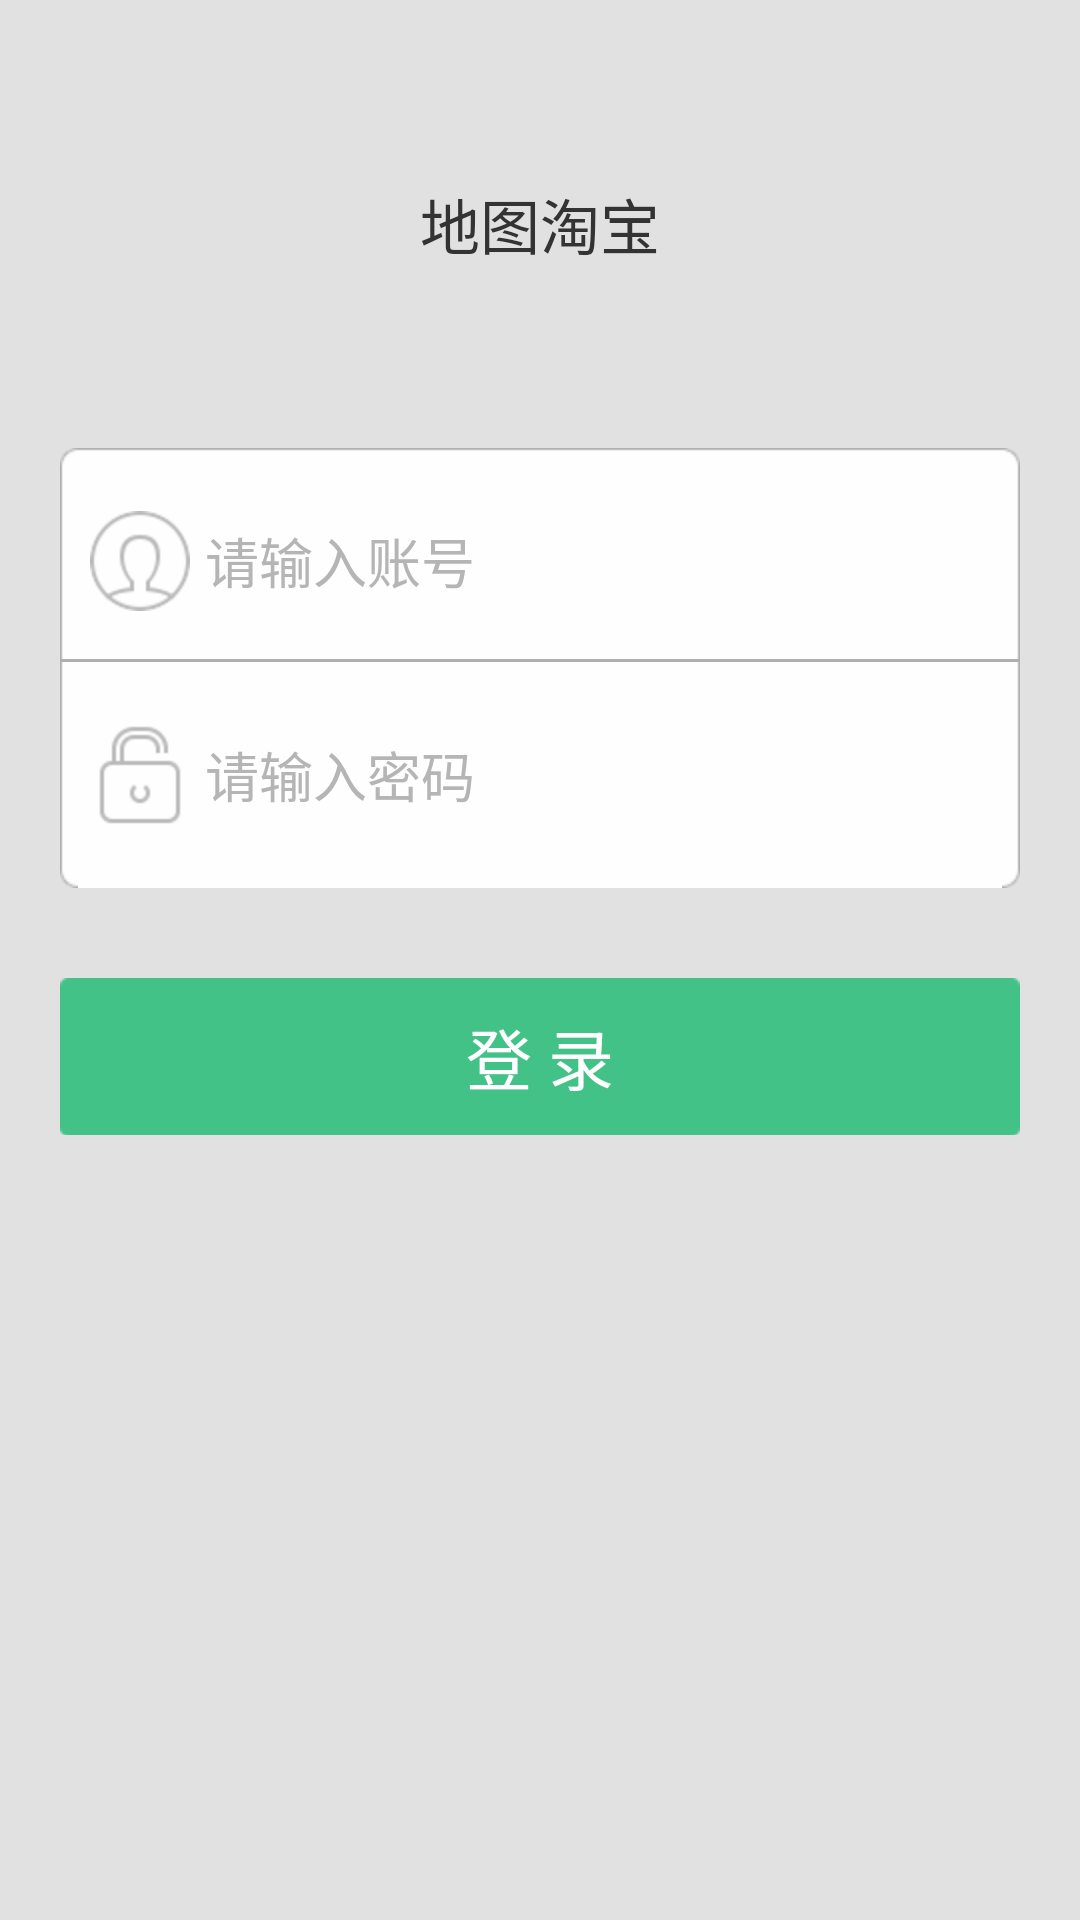

Named icons in this screenshot (1080x1920) and their bounding boxes, (x1, y1, x2, y2):
ui userlogin account: (90, 511, 190, 611)
ui userlogin pwd: (100, 727, 180, 823)
